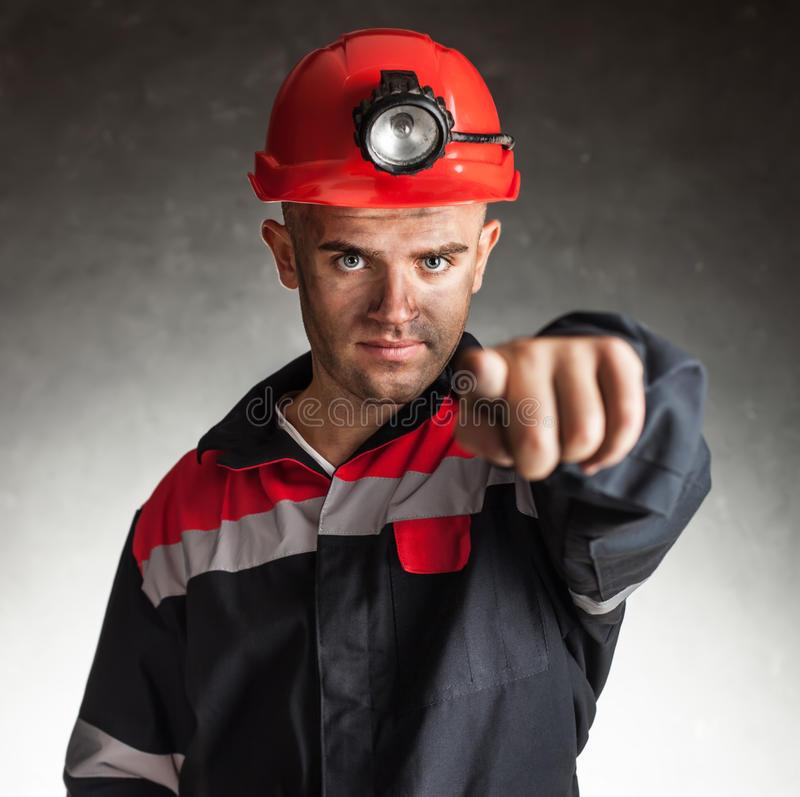helmet: (246, 31, 525, 211)
